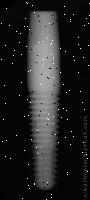Keystone Dental: (27, 11, 59, 193)
